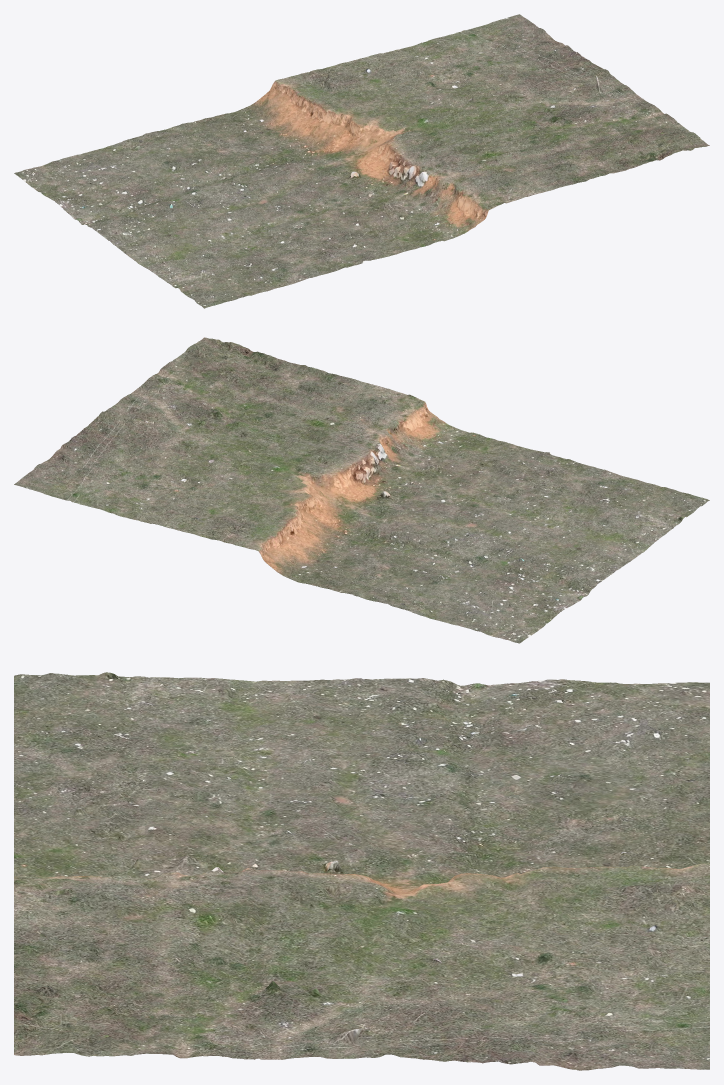
File: BlockYXYB_L21_17.glb
3 views of the same model, one above another, from view 1: azimuth 30°, elevation 25°; view 2: azimuth 150°, elevation 25°; view 3: azimuth 270°, elevation 25° (orthographic). The views are drawn at different scales.
Parts seen in each view (by area): view 1: rtc; view 2: rtc; view 3: rtc.
Part boxes in pixels (x1,y1,x2,y2): rtc: [14, 14, 709, 308]; rtc: [14, 337, 709, 643]; rtc: [14, 672, 709, 1070].
Bounding box in the file's own units: 26.76 × 2.56 × 17.43.
Materials: 10 (10 with a texture image).
